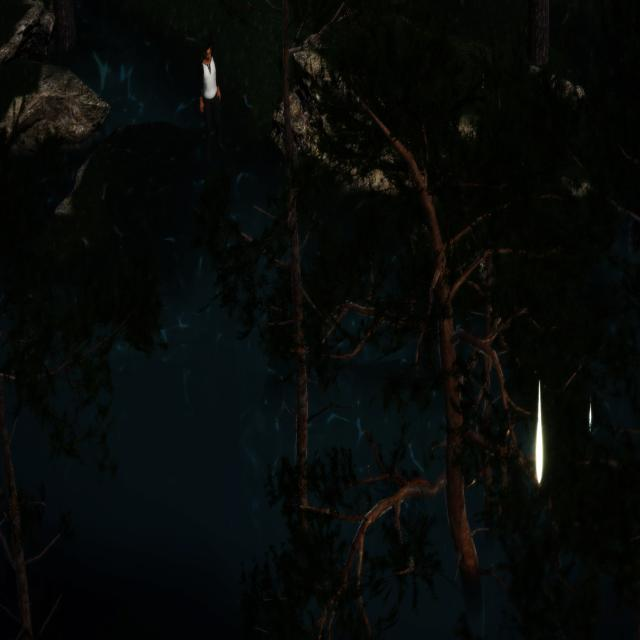Human: (198, 40, 232, 188)
